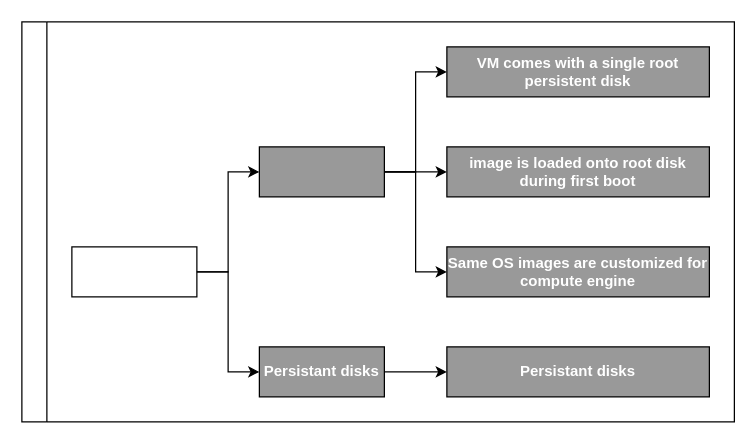
Some shapes in this 756 by 444 pixel diagram are drawn without their labels. The shapes that lost their labels are listed below. From the top down, each one's box as (x1, y1, x2, y2) in pixels, then its label:
(258, 146, 384, 197): Boot disk
(71, 246, 197, 297): Disk
